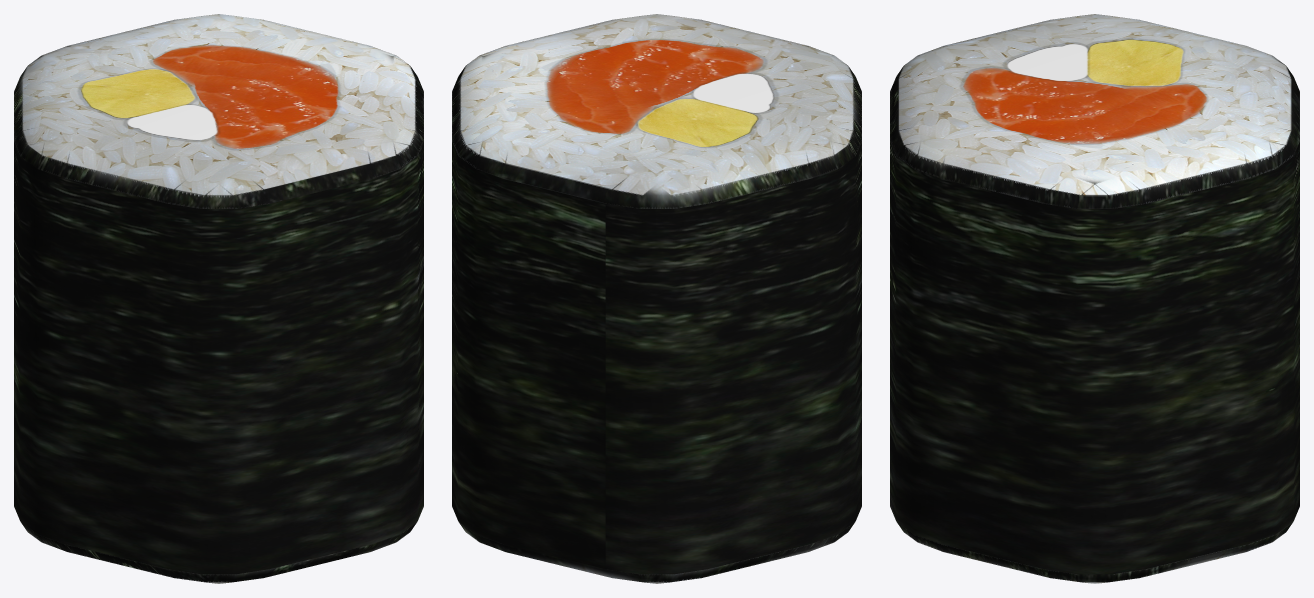
Rendered from FBX_Sushi_Piece.fbx.
3 views of the same model, side by side, from view 1: azimuth 30°, elevation 25°; view 2: azimuth 150°, elevation 25°; view 3: azimuth 270°, elevation 25° (orthographic).
Parts seen in each view (by area): view 1: pCylinder2; view 2: pCylinder2; view 3: pCylinder2.
Boxes of the visible parts, x1=… form: pCylinder2: x1=14, y1=14, x2=423, y2=583; pCylinder2: x1=452, y1=14, x2=861, y2=583; pCylinder2: x1=890, y1=14, x2=1299, y2=583.
Bounding box in the file's own units: 50.19 × 51.99 × 46.92.
